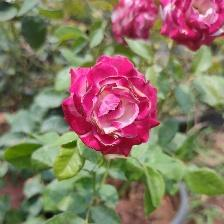rose: (62, 54, 163, 159)
